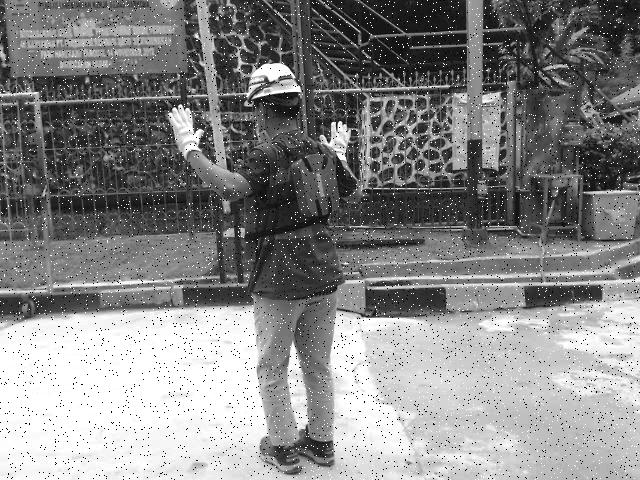gloves: (165, 104, 204, 158), (318, 120, 353, 161)
helmet: (238, 59, 305, 104)
safety-shoes: (254, 431, 308, 478), (297, 423, 338, 467)
vest: (293, 149, 349, 223)
